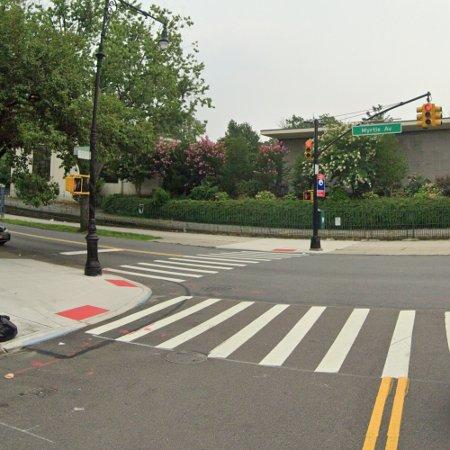traffic lights: (417, 102, 444, 127)
